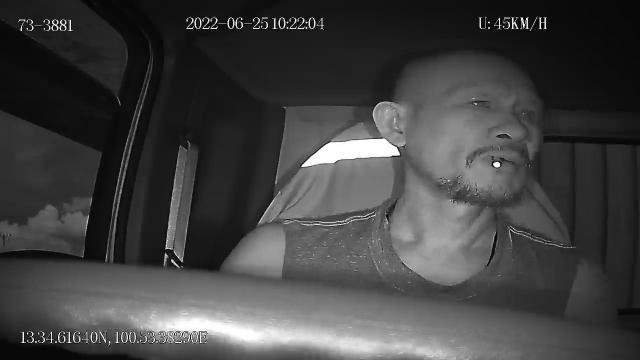SafeDriving: (451, 88, 502, 117)
Smoking: (492, 156, 502, 168)
